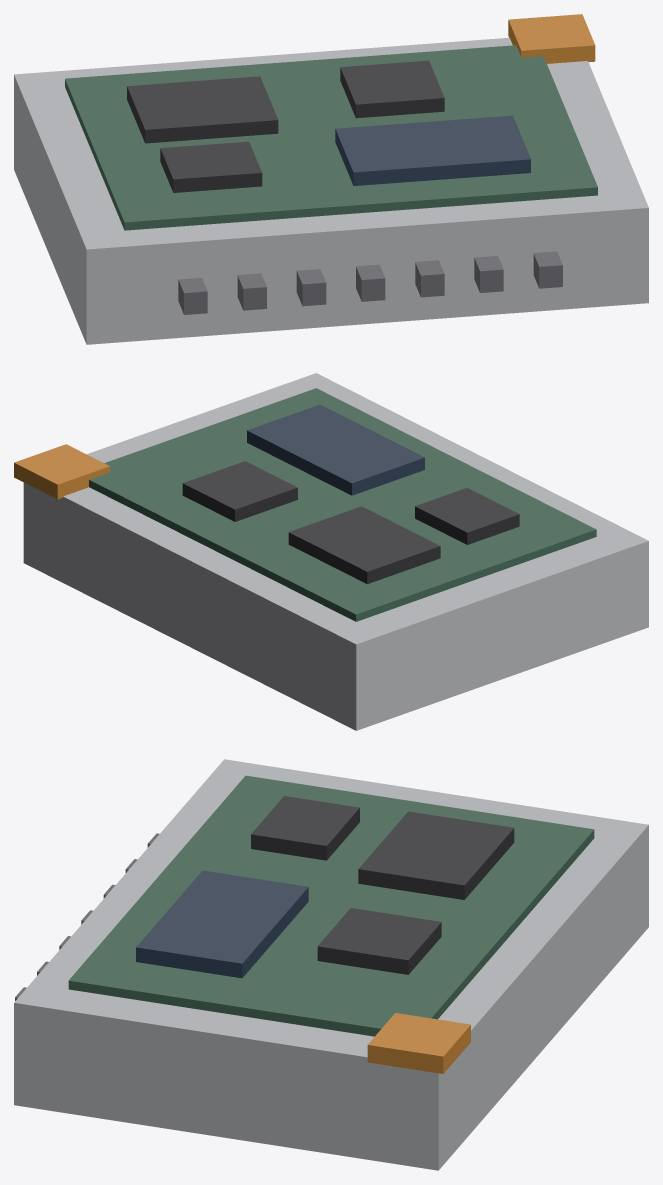
Rendered from drop_board_a.glb.
3 renders of one model, top to bottom at view 1: azimuth 30°, elevation 25°; view 2: azimuth 150°, elevation 25°; view 3: azimuth 270°, elevation 25°, orthographic. The views are drawn at different scales.
Visible parts, largest first — view 1: drop_board_a; view 2: drop_board_a; view 3: drop_board_a.
Part boxes in pixels (x1=…): drop_board_a: x1=14, y1=14, x2=648, y2=344; drop_board_a: x1=14, y1=373, x2=648, y2=730; drop_board_a: x1=14, y1=759, x2=648, y2=1170.
Bounding box in the file's own units: 0.4594 × 0.086 × 0.3933.
